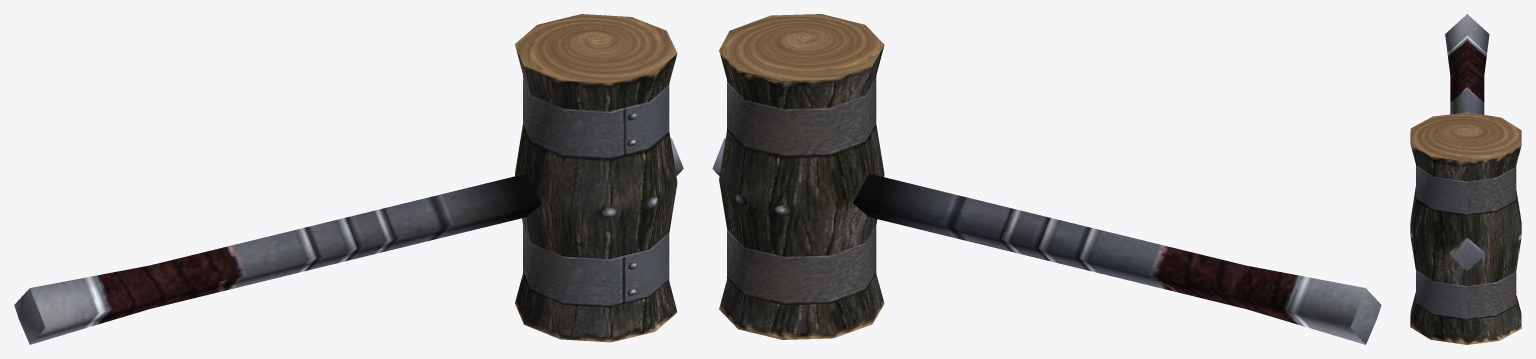
3 renders of one model, left to right at view 1: azimuth 30°, elevation 25°; view 2: azimuth 150°, elevation 25°; view 3: azimuth 270°, elevation 25°, orthographic. The views are drawn at different scales.
Visible parts, largest first — view 1: it10639; view 2: it10639; view 3: it10639.
Boxes of the visible parts, x1,y1,x2,y2 form: it10639: (14, 14, 683, 344); it10639: (712, 14, 1381, 344); it10639: (1410, 14, 1521, 344).
Size of the model in its own units: 3.58 by 1.46 by 0.7435.
4 materials, 3 textured.
